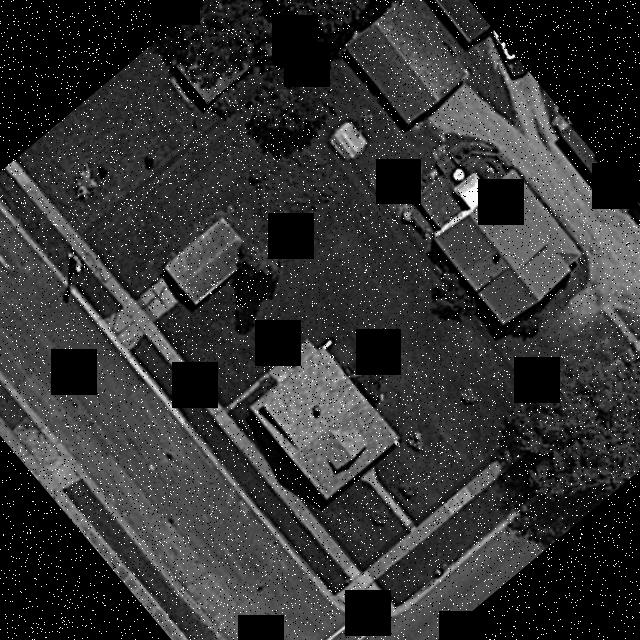Driveway: (360, 467, 411, 526), (136, 274, 177, 320)
Extra Driveway: (103, 301, 152, 350)
Extra Lawn: (132, 336, 346, 592), (376, 482, 507, 604), (73, 266, 120, 318), (54, 246, 71, 278), (343, 593, 365, 611)
Extra Sidewalk: (143, 323, 360, 580), (335, 457, 497, 603), (69, 236, 133, 307), (362, 582, 393, 610)
House: (249, 346, 397, 500)
Other: (161, 218, 252, 305)
Sidewalk: (224, 339, 316, 412)
